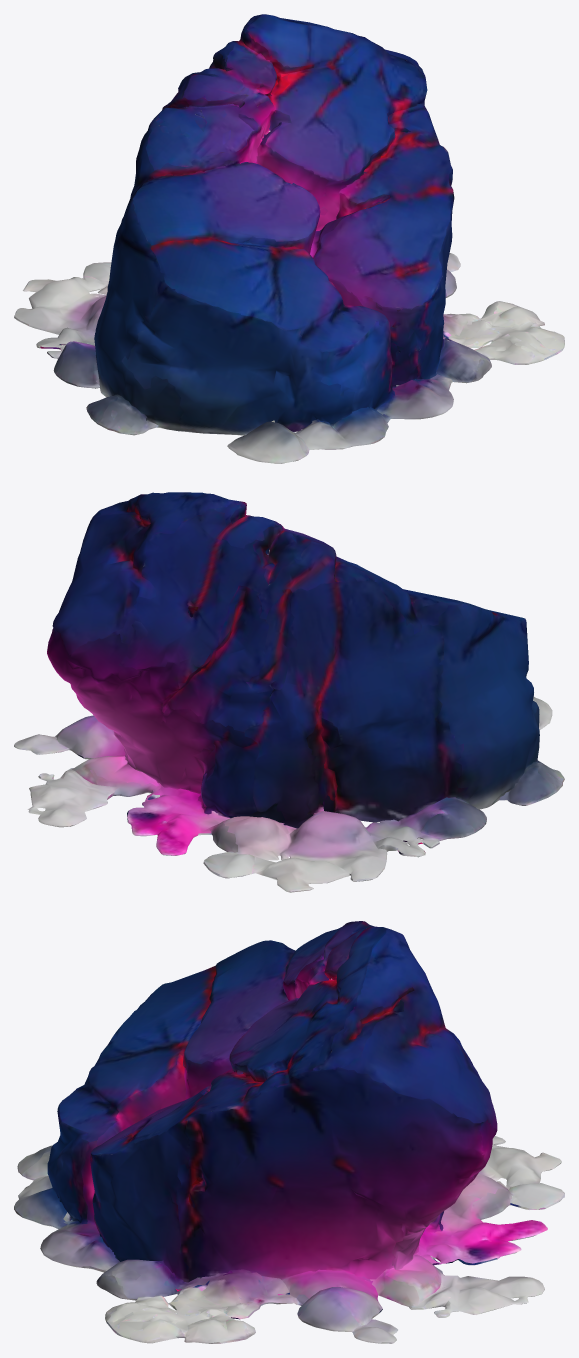
File: shore-stone-9-generated-2026-05-17T20-16-34-309Z.low.glb
3 views of the same model, one above another, from view 1: azimuth 30°, elevation 25°; view 2: azimuth 150°, elevation 25°; view 3: azimuth 270°, elevation 25° (orthographic). The views are drawn at different scales.
Parts seen in each view (by area): view 1: temp_mesh.ply; view 2: temp_mesh.ply; view 3: temp_mesh.ply.
Part boxes in pixels (<box>): temp_mesh.ply: <box>14,14,564,463</box>; temp_mesh.ply: <box>14,492,564,892</box>; temp_mesh.ply: <box>14,921,564,1343</box>.
Size of the model in its own units: 1.97 by 1.24 by 1.97.
Materials: 1 (1 with a texture image).
